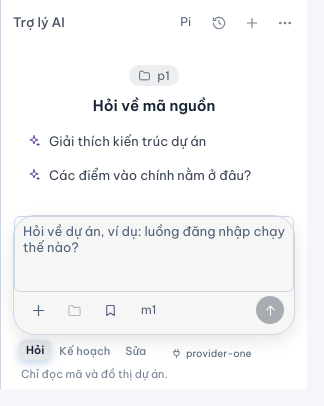
Test case: AgentPanel › Hỏi chỉ đọc; lần đầu sang Sửa giải thích việc duyệt từng bản diff
Expected: the text "Chỉ đọc mã và đồ thị dự án." is shown, [21,367,168,381]
Click the button "Sửa" at (136, 351), box [118,341,153,361]
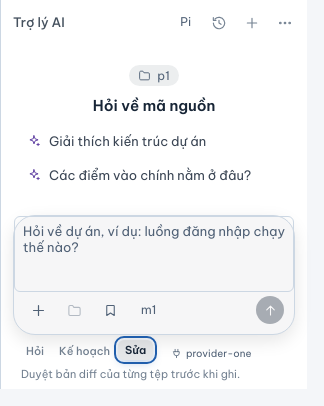
Now the text "Duyệt bản diff của từng tệp trước khi ghi." is shown, box [21,367,240,381]
